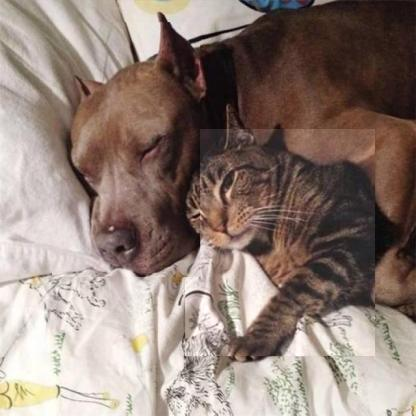cat: (185, 129, 375, 356)
dog: (52, 22, 200, 277)
